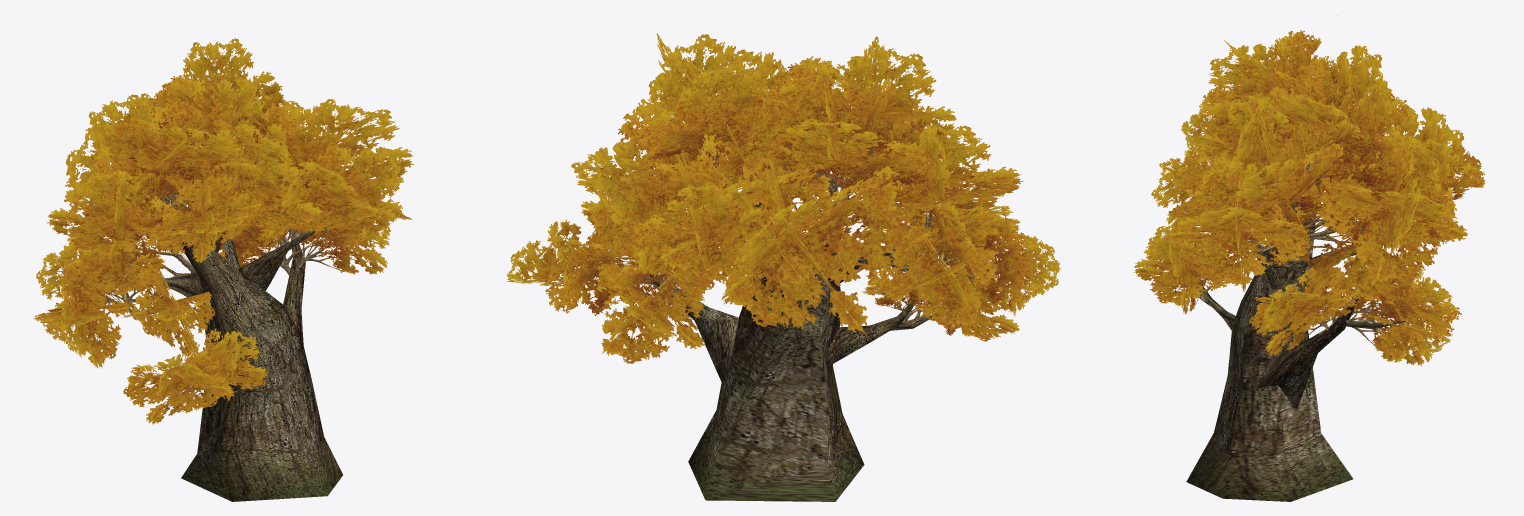
File: tre_tree07.glb
The picture shows the model from 3 angles, left to right: view 1: azimuth 30°, elevation 25°; view 2: azimuth 150°, elevation 25°; view 3: azimuth 270°, elevation 25°; orthographic projection. The views are drawn at different scales.
Visible parts, largest first — view 1: tre_tree07; view 2: tre_tree07; view 3: tre_tree07.
Part boxes in pixels (<box>): tre_tree07: <box>33,38,414,501</box>; tre_tree07: <box>506,33,1060,501</box>; tre_tree07: <box>1134,15,1484,501</box>.
Size of the model in its own units: 39.42 by 37.7 by 32.45.
2 materials, 2 textured.
